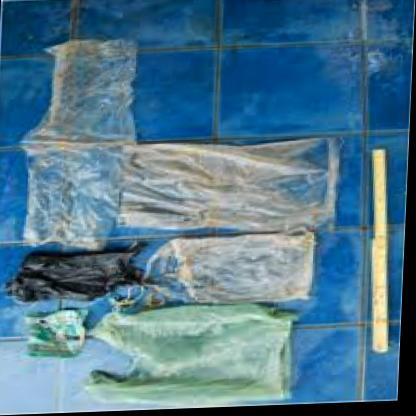Plastic: (73, 130, 343, 236), (22, 34, 123, 246), (98, 307, 306, 407), (144, 234, 328, 310), (8, 246, 130, 302), (11, 308, 94, 365)
